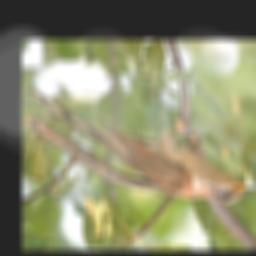Cuckoo: (24, 87, 256, 204)
